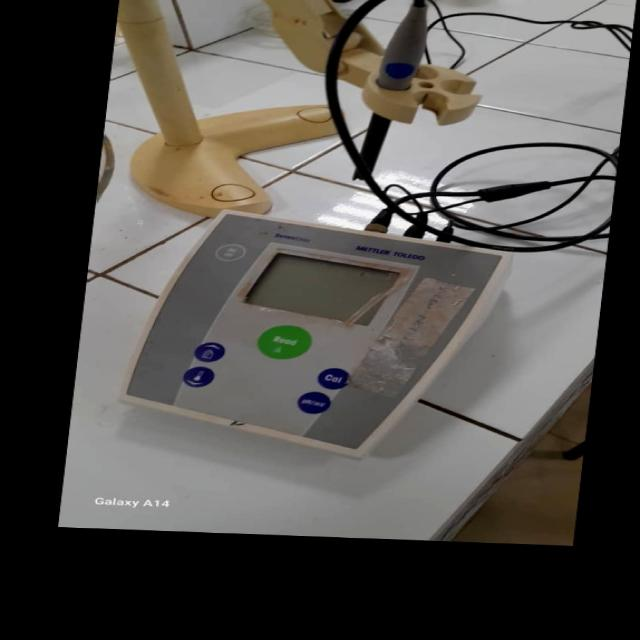PH meter: (93, 0, 634, 517)
